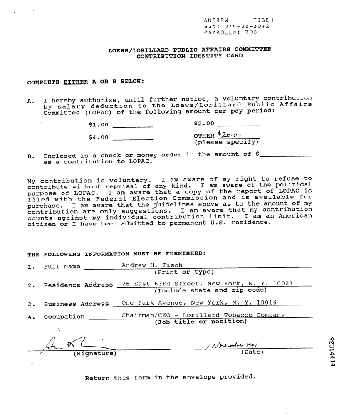textline: (87, 311, 313, 321), (112, 297, 313, 308), (84, 262, 313, 271), (116, 279, 313, 289), (27, 341, 171, 352), (193, 340, 314, 350), (258, 150, 312, 158), (112, 121, 154, 128), (112, 134, 154, 141), (218, 120, 260, 127), (218, 133, 260, 140)
